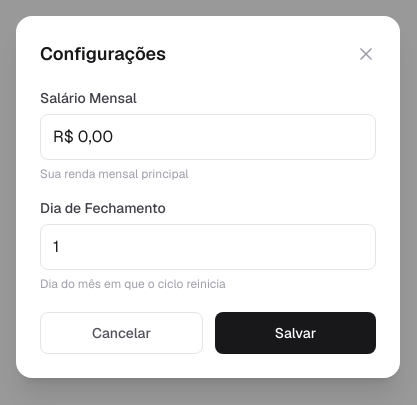
Test case: SettingsModal › should format typed digits as BRL currency
Replace the text in the field labelled "Salário Mensal" with "300000" at point(208, 137), box [40, 114, 376, 160]
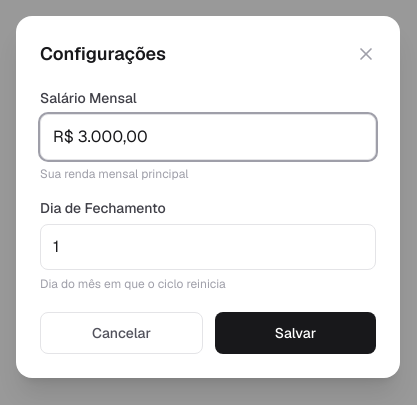
Check: the field labelled "Salário Mensal" holds "R$ 3.000,00", box [40, 114, 376, 160]
